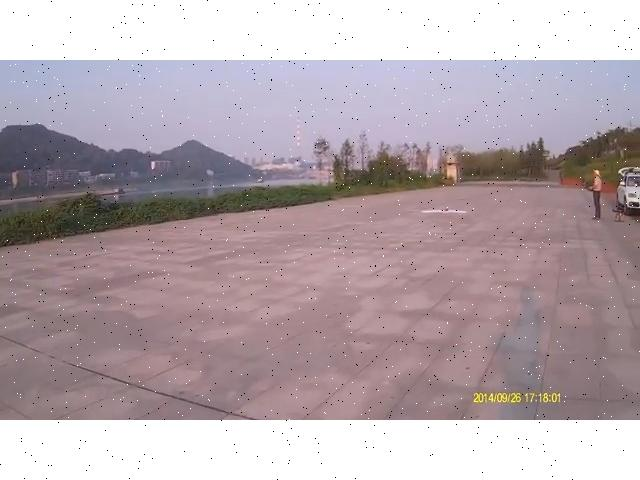Anti-Drone: (420, 202, 472, 220)
